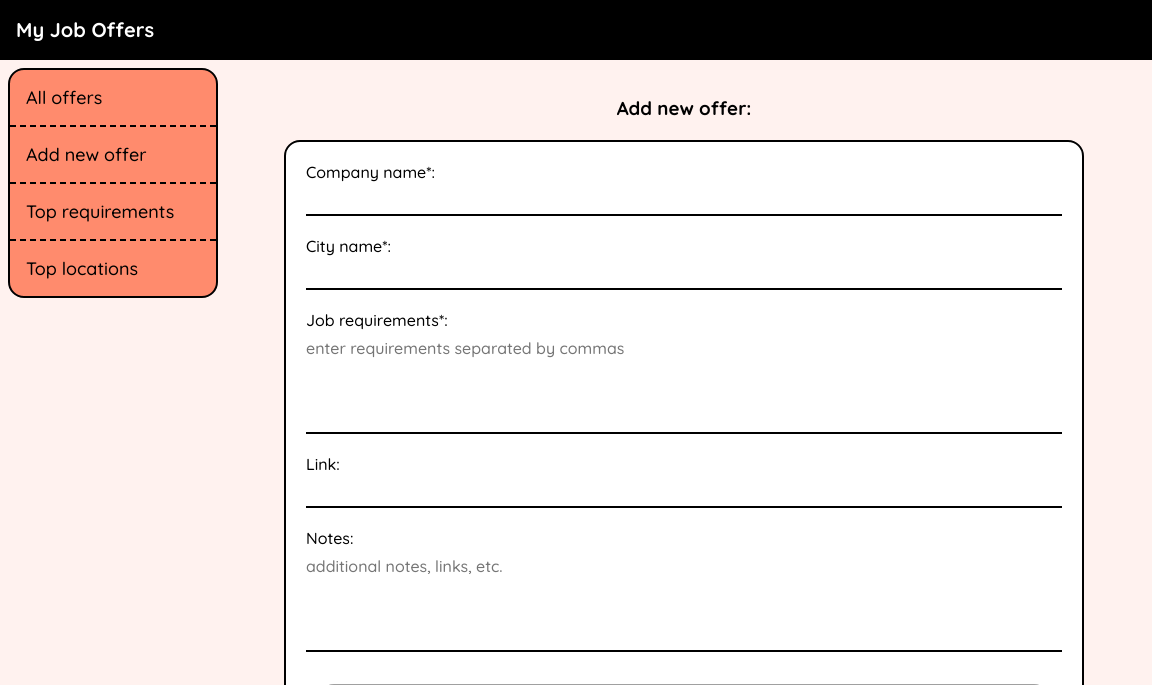
it: navigation works › redirects to 'top requirements' page
Click the link "Top requirements".
click(113, 212)  # box top-left (10, 184), bottom-right (216, 241)
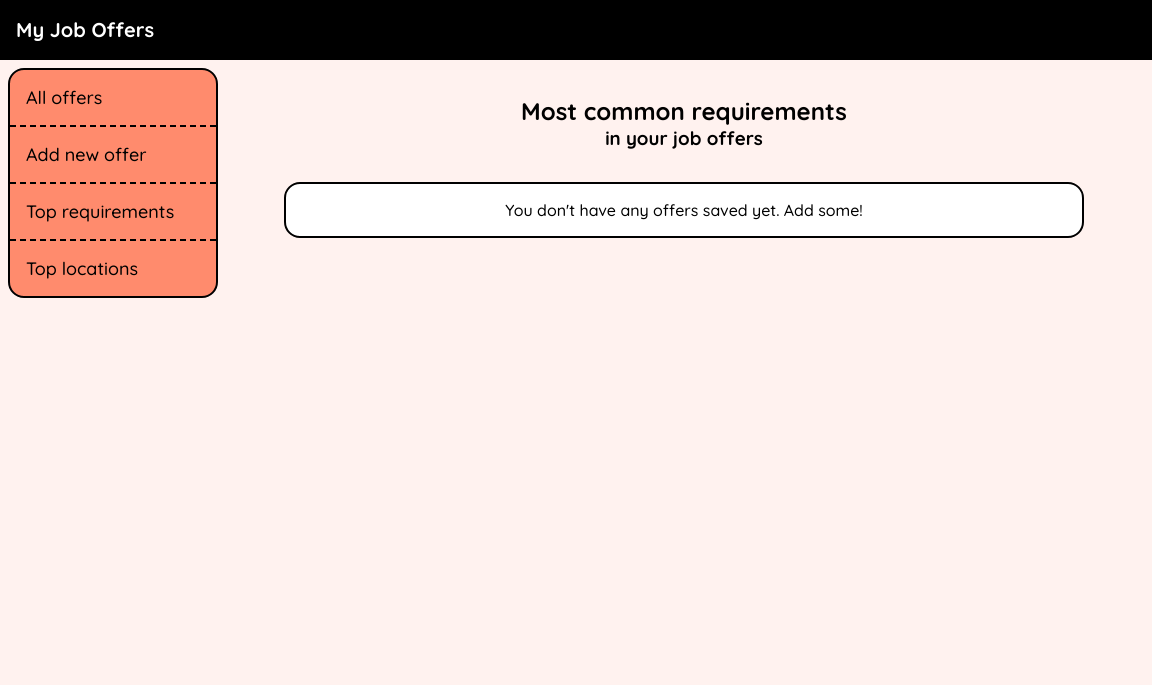
Now the heading "Most common requirements" is shown, box top-left (521, 96), bottom-right (847, 126)
